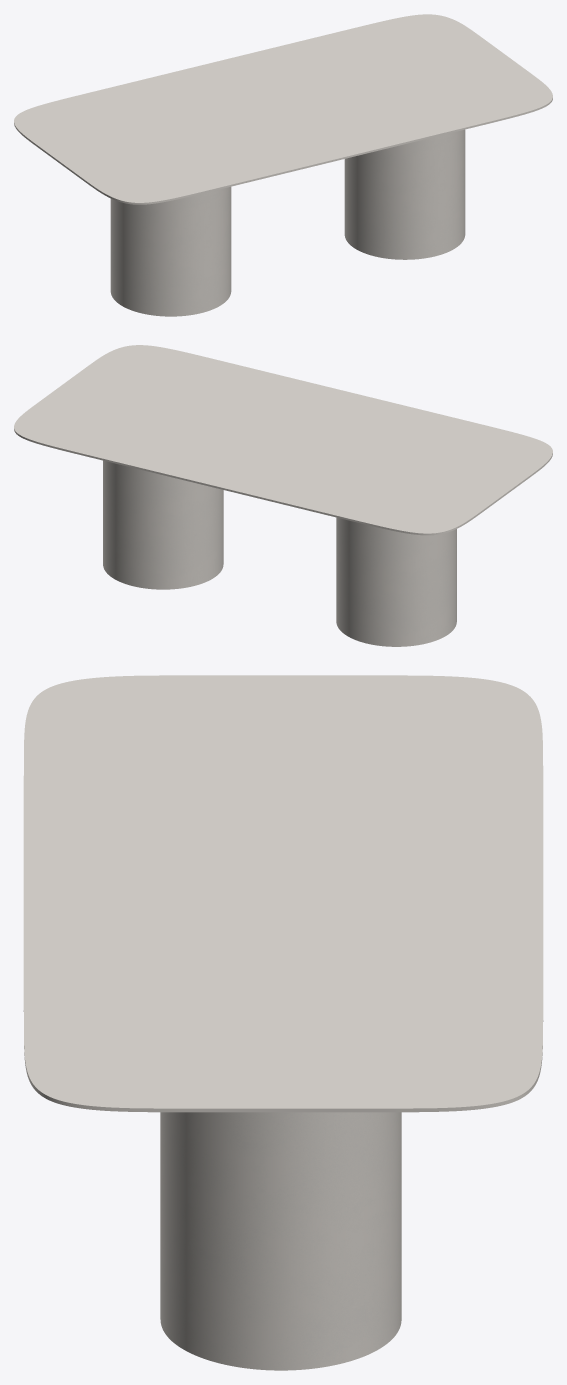
File: pearlwhite_softrecta_facet_stream.glb
3 views of the same model, one above another, from view 1: azimuth 30°, elevation 25°; view 2: azimuth 150°, elevation 25°; view 3: azimuth 270°, elevation 25° (orthographic). The views are drawn at different scales.
Parts seen in each view (by area): view 1: facet_softrecta, stream; view 2: facet_softrecta, stream; view 3: facet_softrecta, stream.
Part boxes in pixels (x1,y1,x2,y2): facet_softrecta: (14, 14, 552, 204); stream: (110, 129, 465, 316); facet_softrecta: (14, 345, 552, 535); stream: (103, 460, 456, 646); facet_softrecta: (23, 675, 543, 1112); stream: (160, 1112, 401, 1370).
Size of the model in its own units: 7.5 by 2.5 by 3.8.
1 material, 1 textured.
